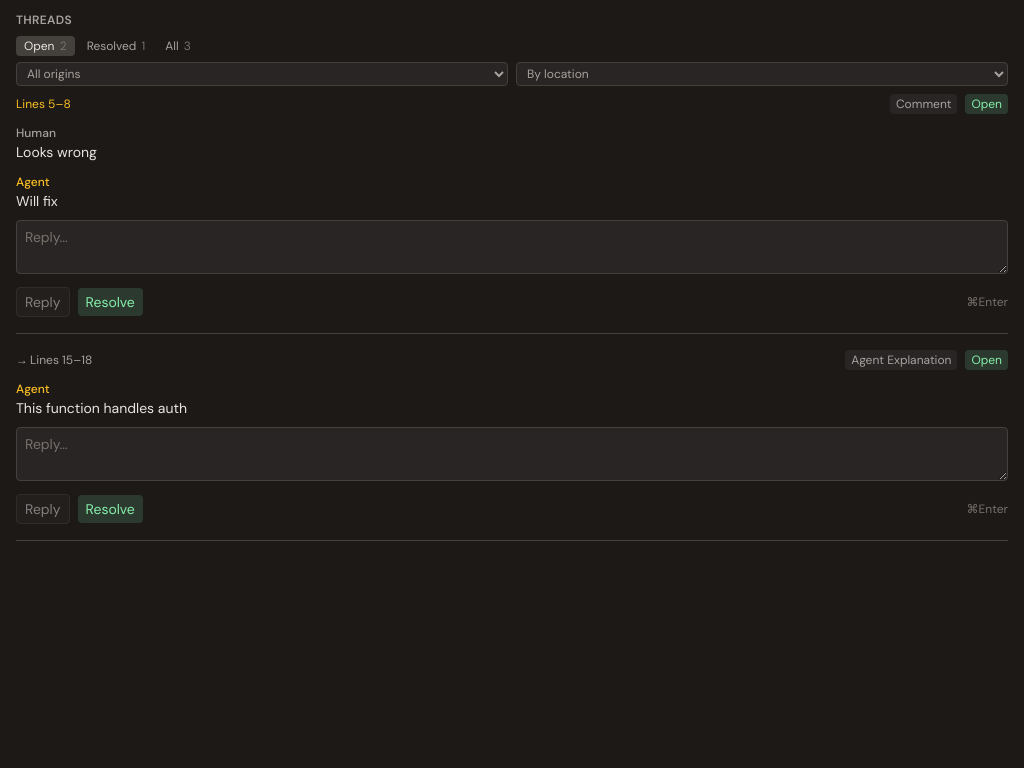
Test: ThreadPanel › filtering and sorting › combines status and origin filters
The image size is (1024, 768).
Filter to Open + AgentExplanation
Click the button "Open 2" at x=45, y=46, box x1=16 y1=36 x2=75 y2=56
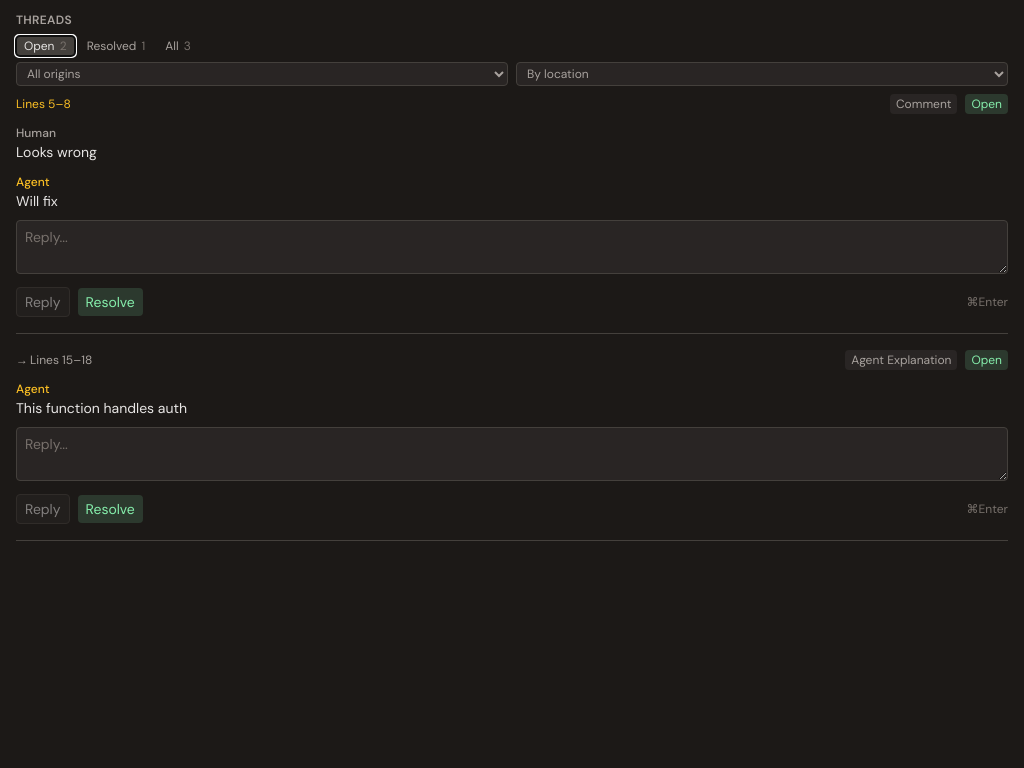
Select "Agent Explanation" in the dropdown named "Filter by origin" at x=262, y=74, box x1=16 y1=62 x2=508 y2=86
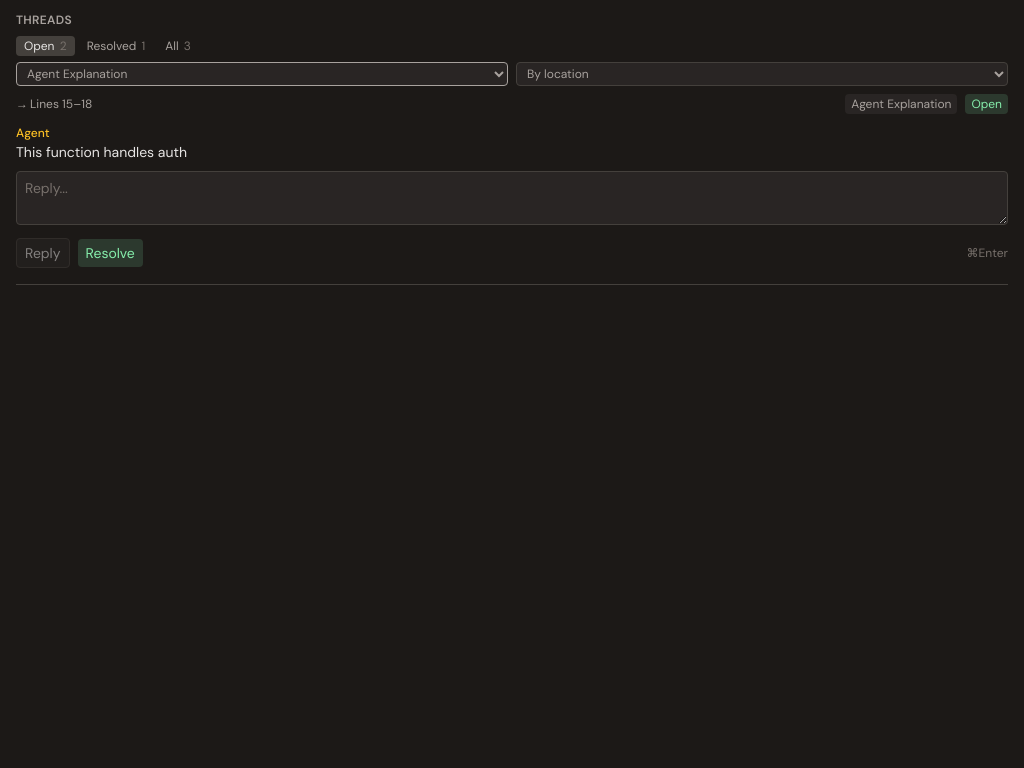
Check: the text "This function handles auth" is shown, box x1=16 y1=143 x2=187 y2=161
Check: the text "Looks wrong" is gone
